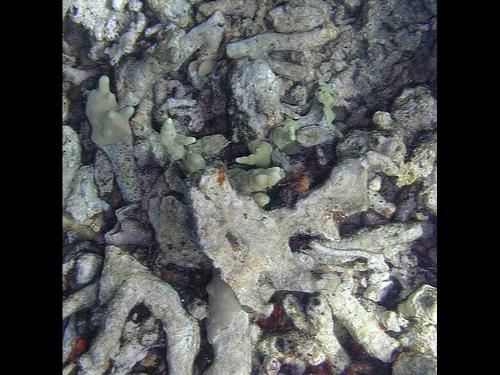bleached_corals: (187, 153, 378, 320), (80, 62, 220, 283), (72, 244, 219, 375), (102, 3, 238, 106), (308, 201, 436, 301), (255, 281, 371, 375), (317, 280, 405, 369), (204, 282, 251, 375), (54, 164, 109, 228)
